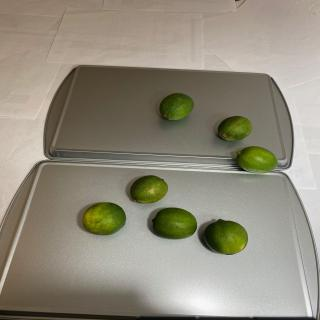Lemon: (204, 219, 248, 255), (82, 202, 126, 235), (152, 208, 197, 240), (236, 146, 278, 174), (130, 175, 168, 203), (159, 92, 194, 120), (217, 115, 253, 142)
